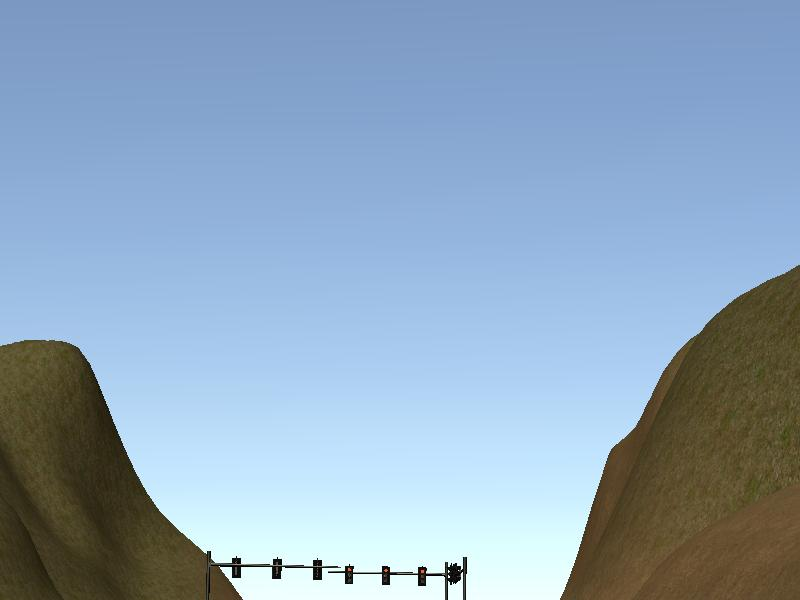Red: (417, 565, 427, 586), (343, 564, 352, 584), (380, 566, 390, 584)
